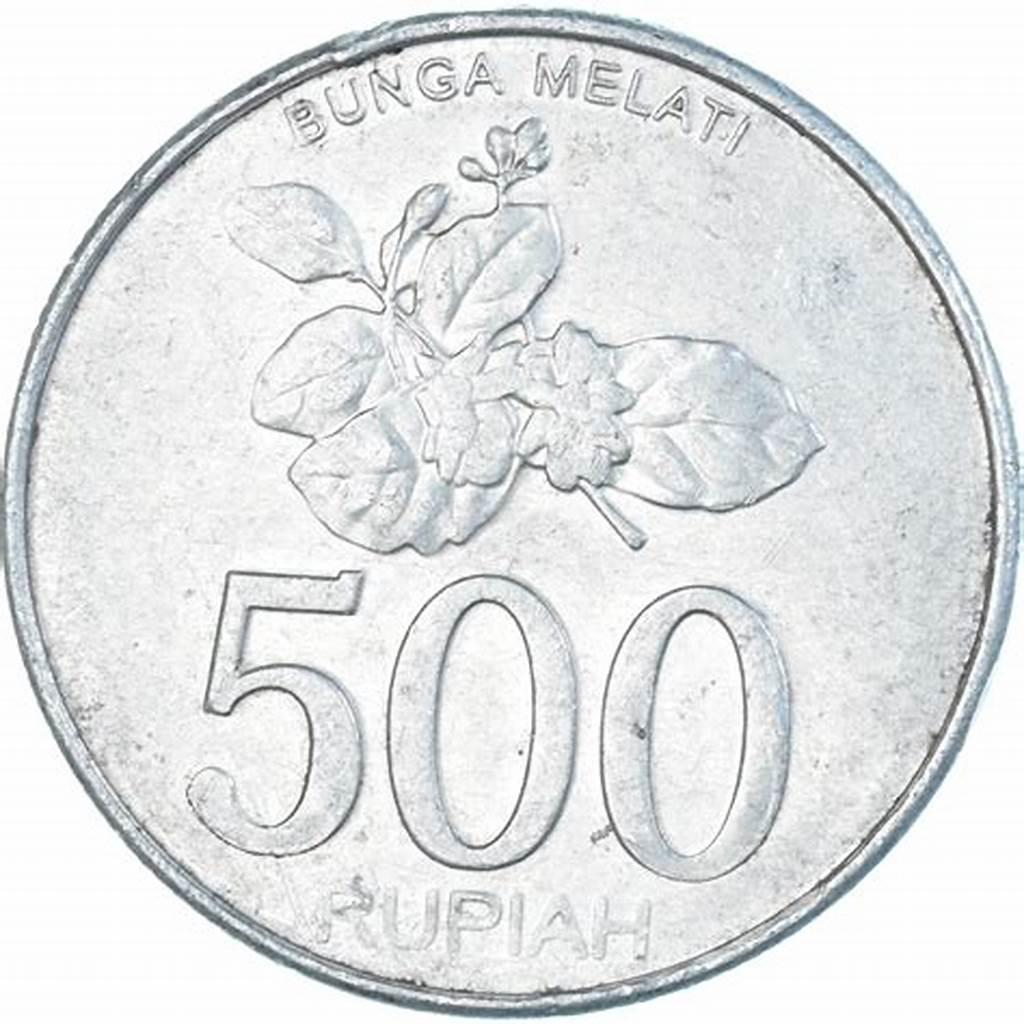coin_500_e2003: (0, 10, 996, 1024)
